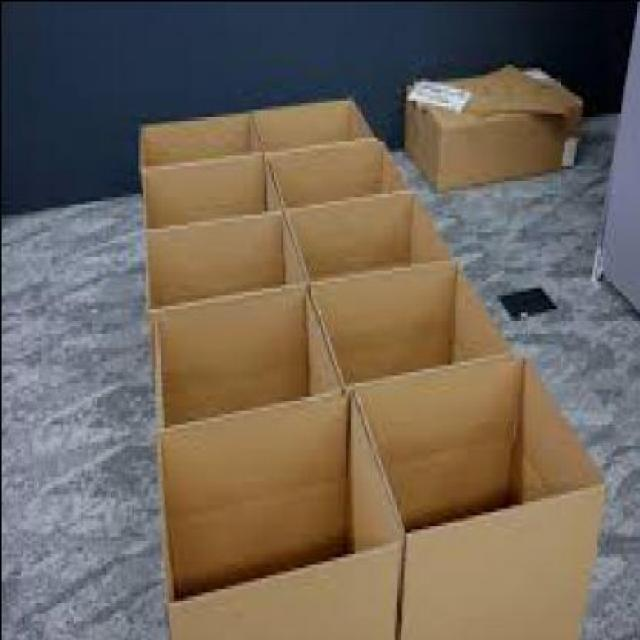box: (349, 343, 602, 637), (153, 385, 402, 637), (149, 280, 337, 437), (313, 263, 510, 392), (400, 57, 577, 183), (142, 211, 303, 318), (285, 181, 451, 277), (137, 148, 280, 232), (263, 137, 411, 208), (136, 108, 262, 189), (405, 60, 571, 117), (250, 88, 373, 162)
